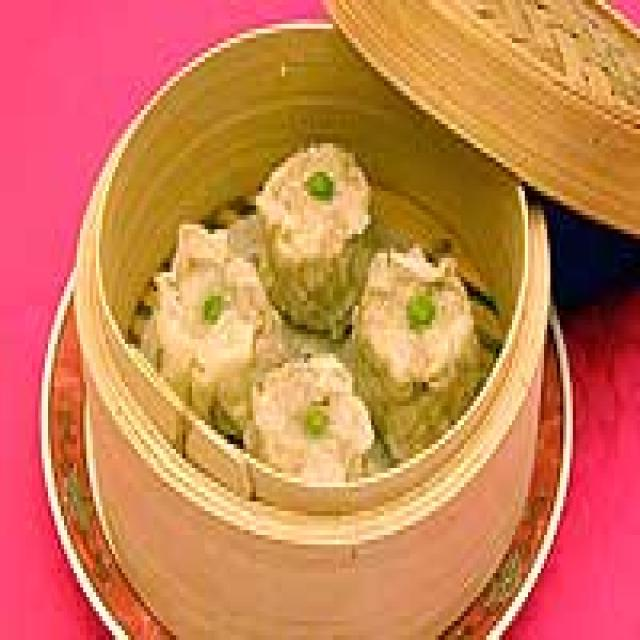带馅早点: (144, 139, 483, 487)
